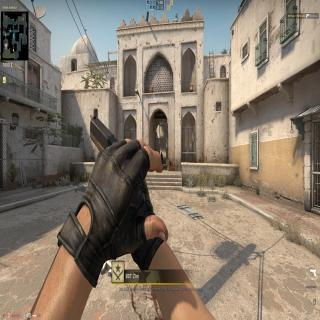CT-Head: (160, 152, 162, 156)
